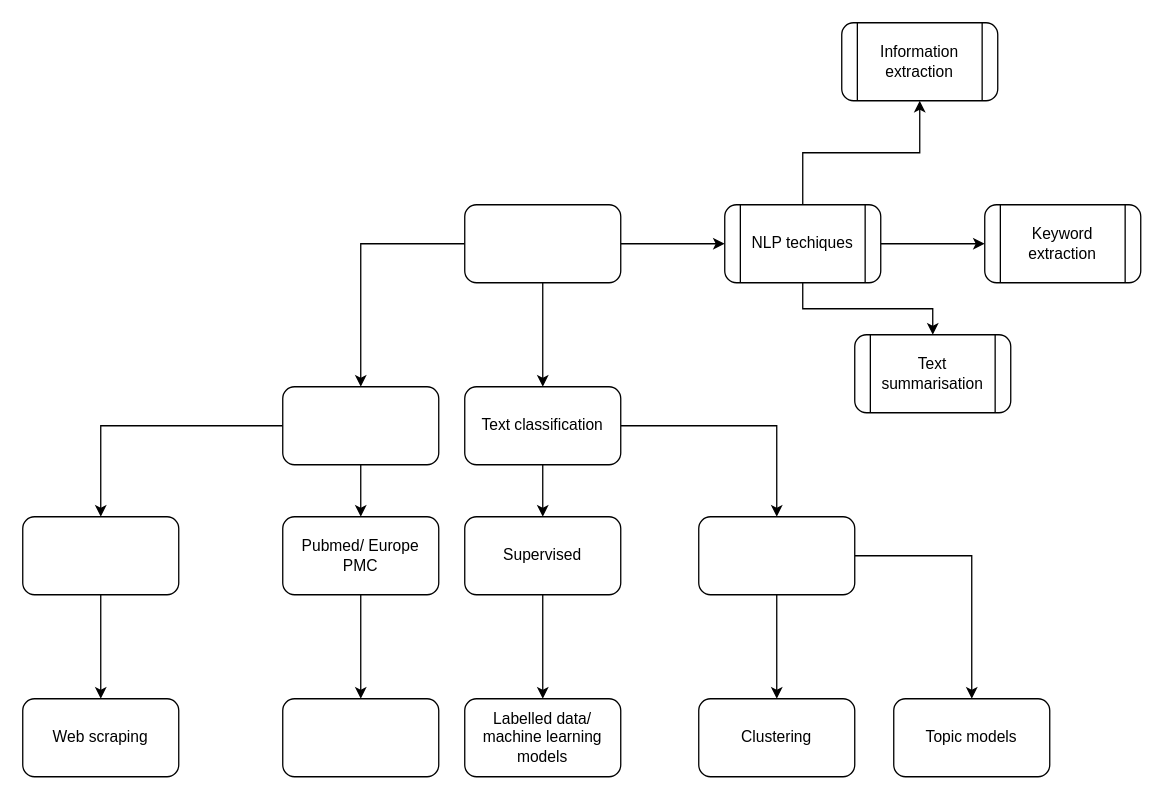
Image size: 1164x800. Some labels were removed from this diagram. The shapes that lost their labels are listed below. From the top down, each one's centre as x and y in pixels, then its label:
At point 542,243: "Text analysis/ NLP in literature review".
At point 360,425: "Literature searching".
At point 100,555: "Grey literature e.g. TRIP/ Google".
At point 776,555: "Unsupervised".
At point 360,737: "R packages e.g. myScrapers, epmc, RISmed, crossref".
